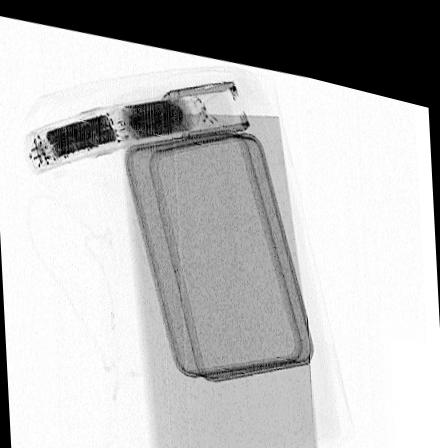Baton: (21, 67, 250, 170)
